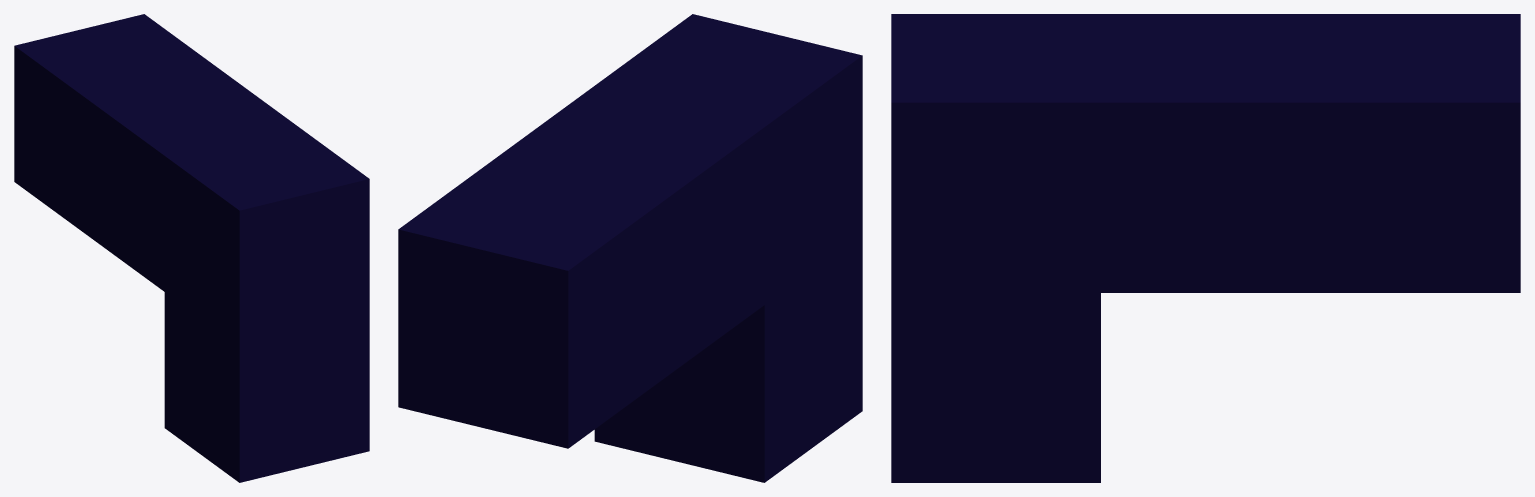
The model's file is tetris6.glb.
3 renders of one model, left to right at view 1: azimuth 30°, elevation 25°; view 2: azimuth 150°, elevation 25°; view 3: azimuth 270°, elevation 25°, orthographic. The views are drawn at different scales.
Parts seen in each view (by area): view 1: Cube.006; view 2: Cube.006; view 3: Cube.006.
Boxes of the visible parts, x1,y1,x2,y2 form: Cube.006: (14, 14, 369, 482); Cube.006: (398, 14, 862, 482); Cube.006: (891, 14, 1520, 482).
Size of the model in its own units: 2 by 4 by 6.
